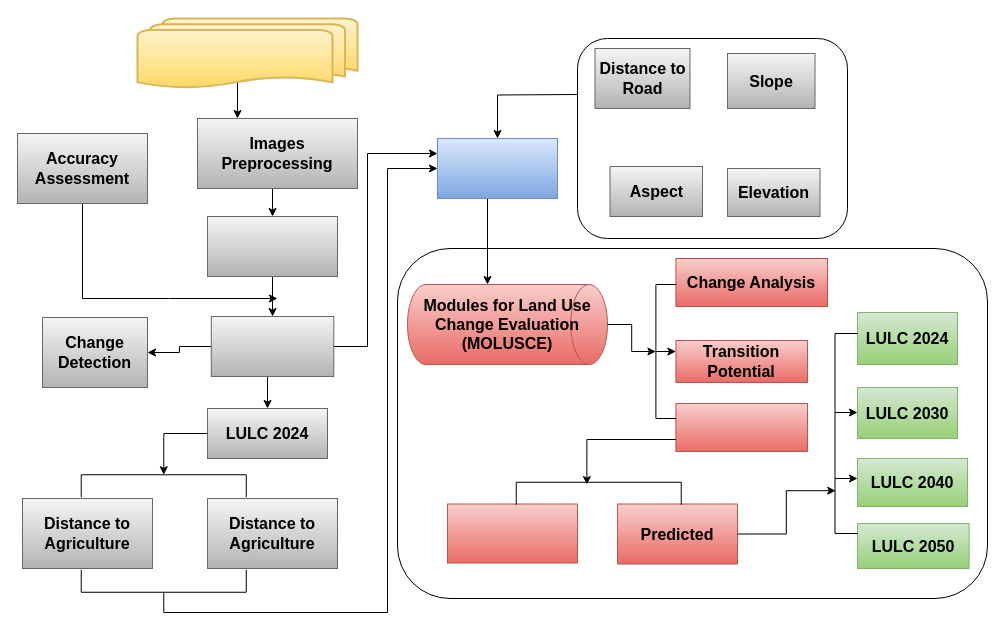
This 1005x638 diagram has some shape labels left out. The shapes that lost their labels are listed below. From the top down, each one's box as (x1, y1, x2, y2) in pixels, then its label:
(136, 17, 358, 89): Satellite Images 1984,2004,2014,2024
(436, 138, 558, 198): CA-ANN
(206, 216, 338, 276): Image classification
(210, 316, 334, 376): LULC 1984,2004,2014
(675, 402, 808, 452): Change Prediction
(446, 503, 578, 563): Validation 2024
